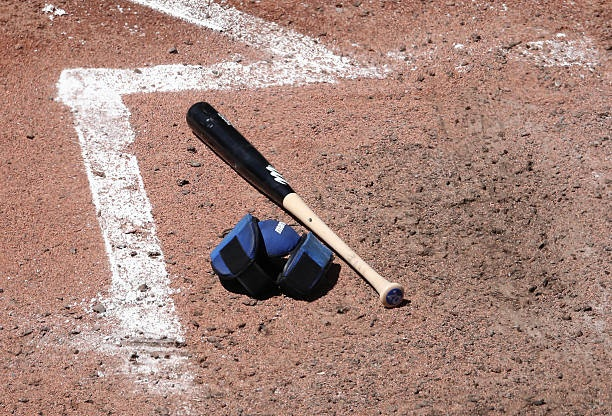bita: (185, 96, 400, 304)
